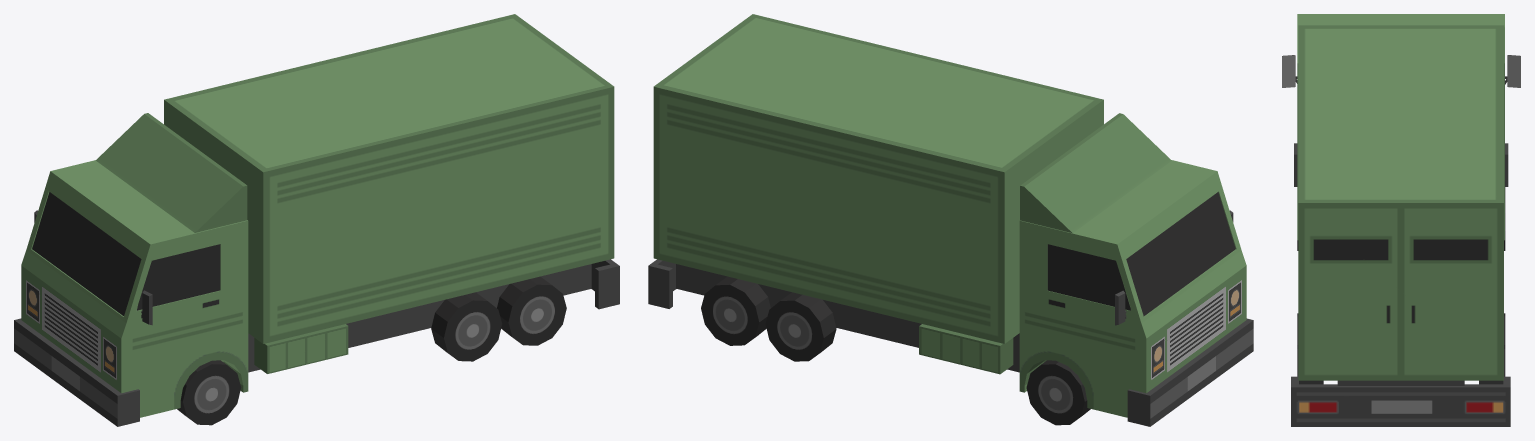
The model's file is container.glb.
The picture shows the model from 3 angles, left to right: view 1: azimuth 30°, elevation 25°; view 2: azimuth 150°, elevation 25°; view 3: azimuth 270°, elevation 25°; orthographic projection. The views are drawn at different scales.
Visible parts, largest first — view 1: Body, Wheel_RL1, Wheel_RL2, Wheel_FL; view 2: Body, Wheel_RR1, Wheel_RR2, Wheel_FR; view 3: Body.
Boxes of the visible parts, left/top/right/bottom form: Body: left=14, top=14, right=619, bottom=426; Wheel_RL1: left=431, top=292, right=502, bottom=361; Wheel_RL2: left=497, top=276, right=566, bottom=345; Wheel_FL: left=177, top=360, right=241, bottom=425; Body: left=648, top=14, right=1253, bottom=426; Wheel_RR1: left=765, top=292, right=836, bottom=361; Wheel_RR2: left=701, top=276, right=770, bottom=345; Wheel_FR: left=1026, top=360, right=1090, bottom=425; Body: left=1282, top=14, right=1520, bottom=426.
Size of the model in its own units: 9.09 by 4.16 by 3.63.
1 material, 1 textured.
